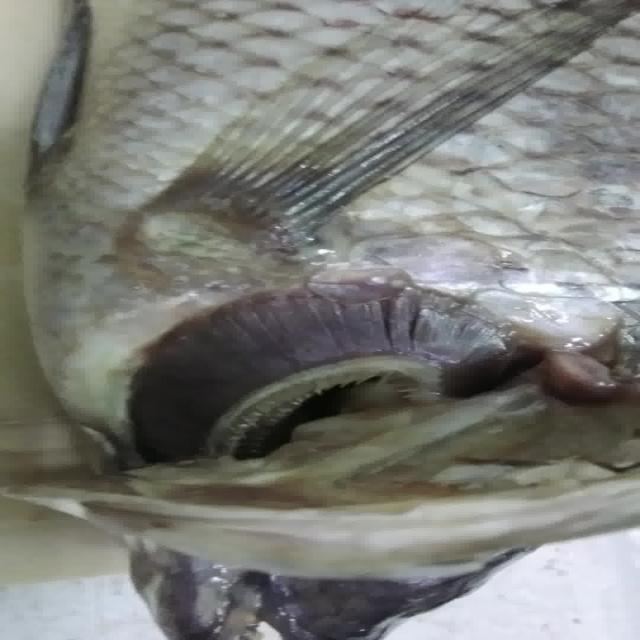Non-Fresh: (113, 273, 547, 469)
